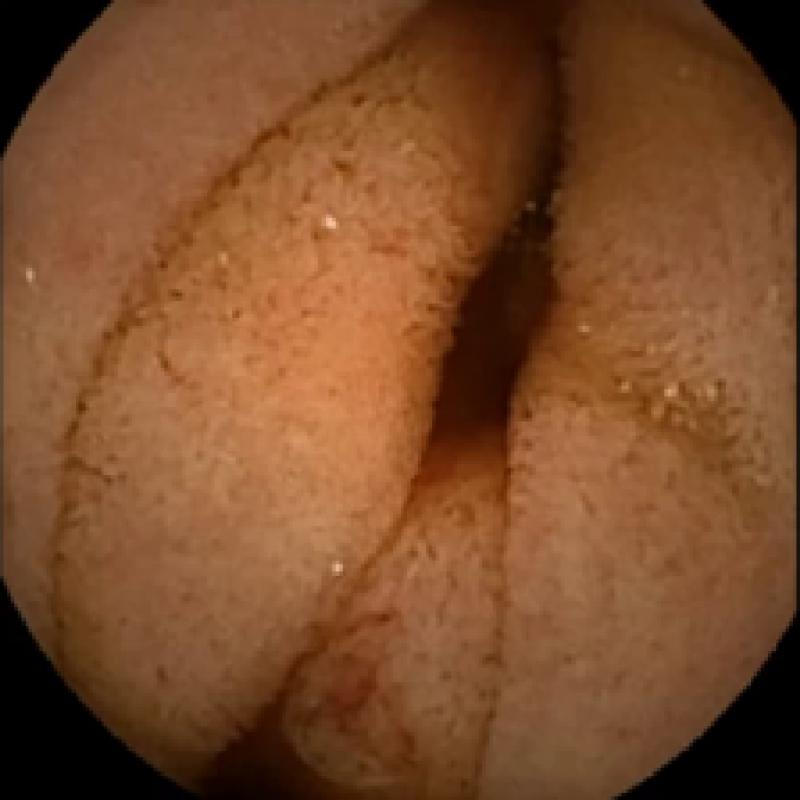bleeding: (407, 204, 600, 500), (189, 685, 360, 800)
